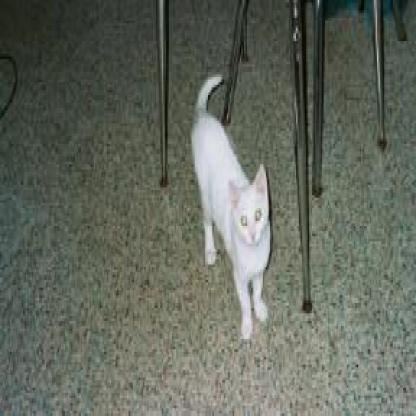cat: (188, 70, 272, 342)
